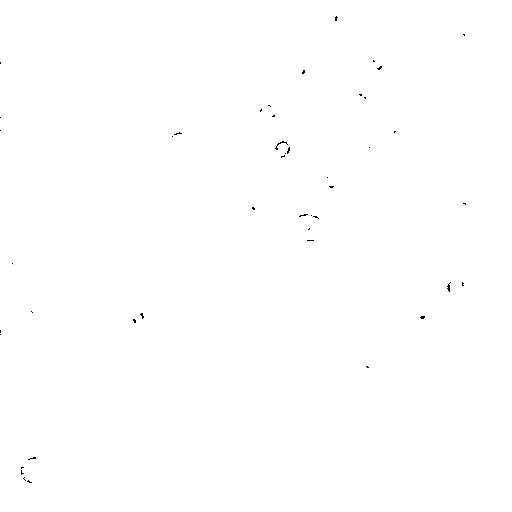micro-algae: (340, 99, 392, 150), (2, 317, 40, 386), (187, 406, 235, 456), (256, 167, 303, 213), (163, 1, 205, 42), (40, 58, 81, 98), (208, 32, 246, 68), (267, 65, 300, 99), (18, 454, 55, 484), (291, 213, 327, 241), (59, 432, 90, 464), (152, 421, 183, 452), (295, 54, 324, 82), (350, 83, 378, 112), (328, 5, 358, 32), (102, 175, 128, 206), (406, 73, 434, 101), (79, 29, 108, 54), (319, 127, 348, 151), (167, 264, 192, 290), (115, 255, 139, 282), (208, 5, 233, 30), (188, 41, 214, 65), (452, 24, 475, 51), (405, 24, 433, 46), (257, 338, 281, 363), (215, 365, 235, 394), (370, 46, 390, 75), (445, 275, 468, 300), (289, 19, 312, 44), (389, 121, 411, 146), (317, 171, 343, 192), (299, 119, 320, 145), (185, 251, 208, 274), (169, 131, 192, 154), (112, 55, 137, 76), (3, 250, 28, 271), (494, 63, 512, 92), (273, 137, 293, 163), (438, 47, 458, 73), (201, 164, 223, 187), (14, 306, 38, 326), (257, 101, 281, 121), (327, 56, 347, 80), (252, 34, 278, 52), (246, 325, 266, 346), (227, 220, 247, 241), (243, 200, 263, 221), (364, 138, 384, 159), (3, 322, 22, 344), (414, 309, 436, 328), (455, 191, 477, 210), (4, 70, 22, 93), (235, 1, 256, 20), (158, 168, 180, 186), (238, 54, 259, 70), (68, 362, 88, 378), (179, 341, 195, 361), (423, 392, 440, 409), (357, 380, 377, 394), (130, 311, 148, 326), (238, 445, 257, 459), (26, 46, 42, 62), (357, 362, 374, 377), (0, 116, 14, 133), (107, 0, 129, 6), (1, 43, 7, 64), (389, 506, 408, 512), (142, 0, 156, 4)
